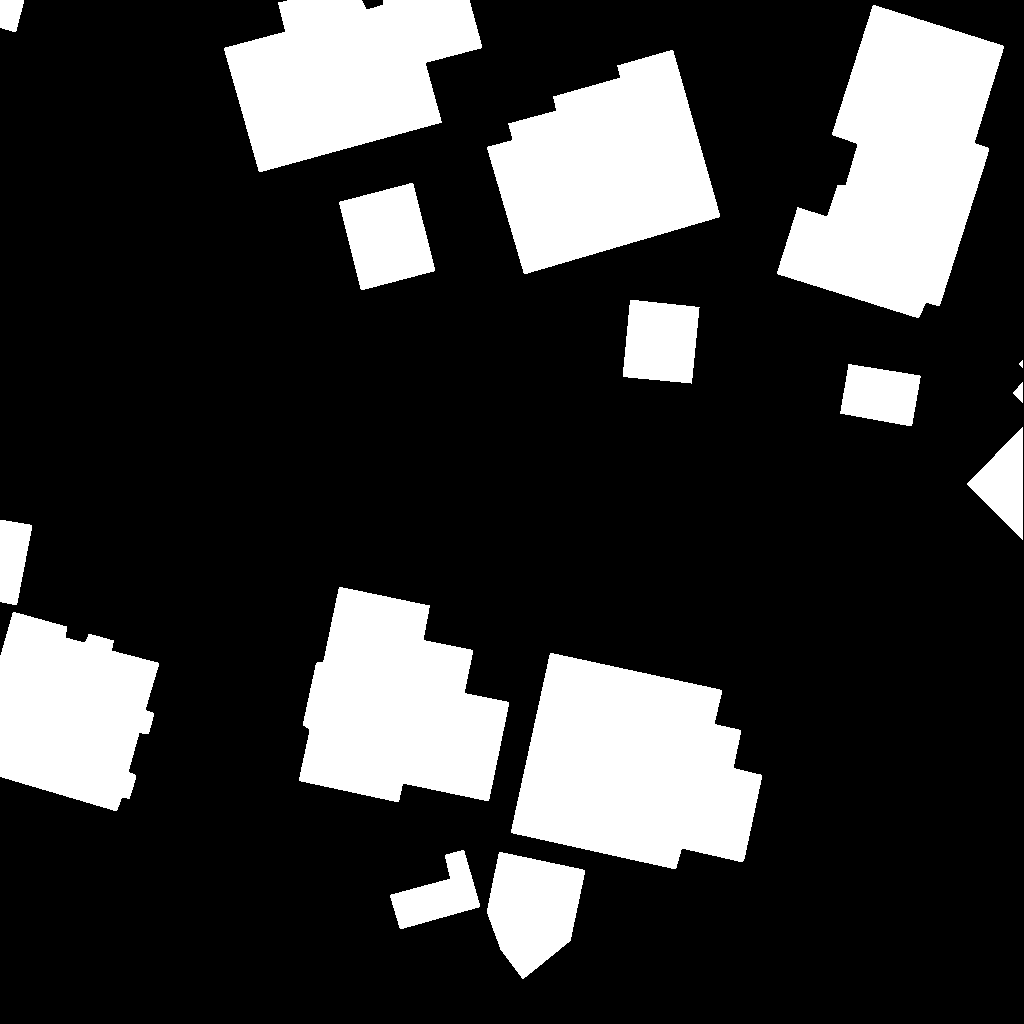building: (777, 5, 1005, 319), (511, 653, 763, 870), (487, 50, 721, 275), (299, 587, 510, 803), (224, 0, 483, 173), (0, 612, 160, 812), (487, 852, 586, 980), (339, 183, 436, 291), (967, 360, 1024, 541), (390, 850, 481, 930), (623, 300, 700, 384), (840, 364, 922, 427), (0, 520, 33, 606), (0, 0, 25, 33)
